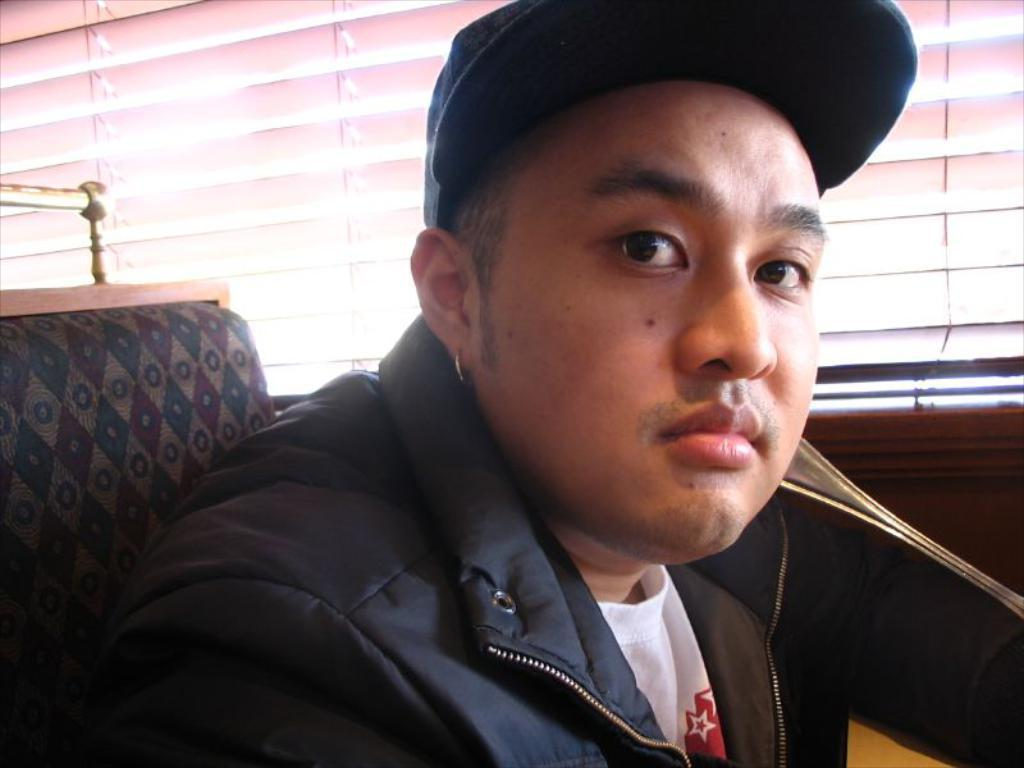Hat: (423, 0, 918, 229)
